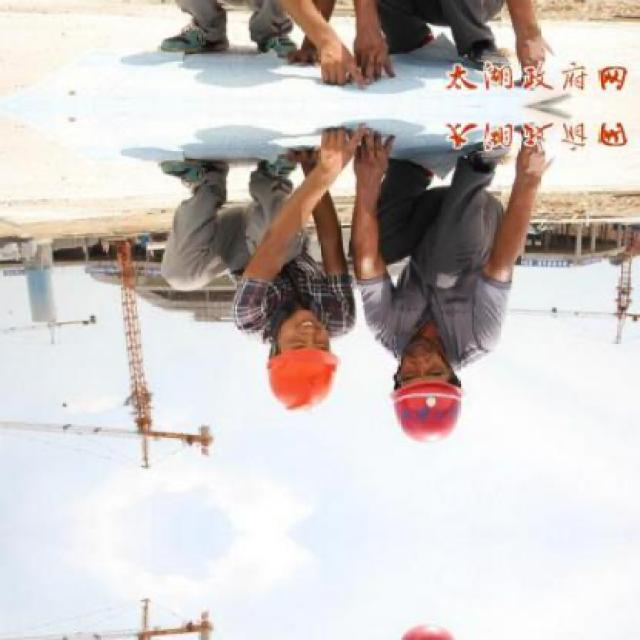con casco: (370, 339, 489, 458), (239, 314, 363, 426)
